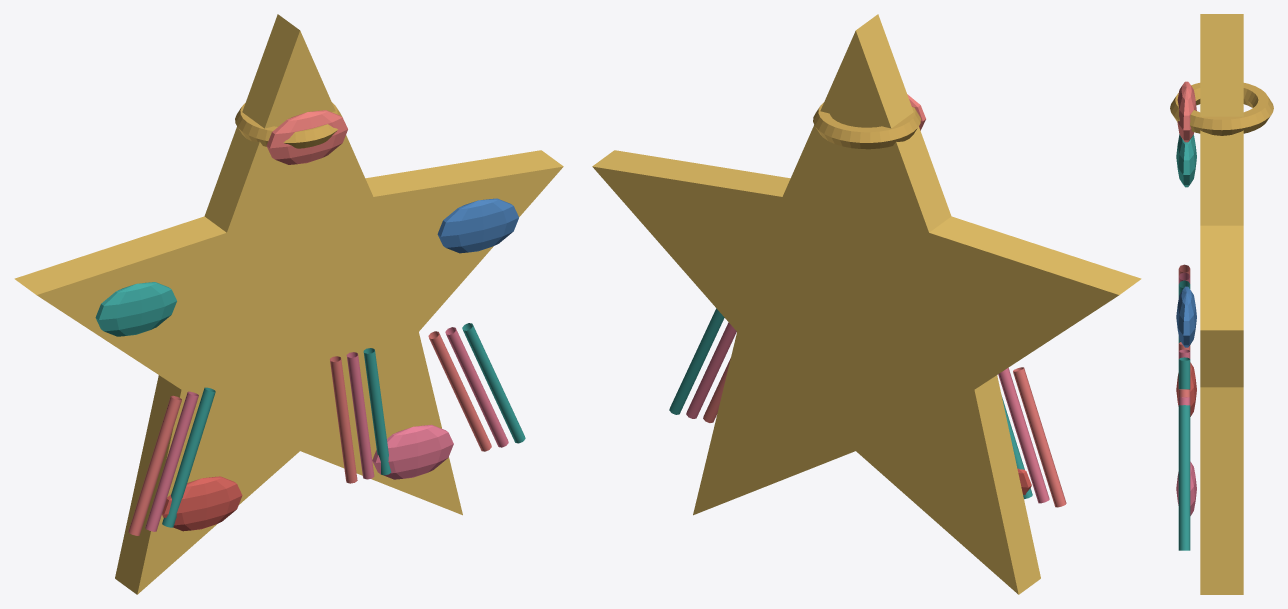
The model's file is mexico-star-pinata.glb.
The picture shows the model from 3 angles, left to right: view 1: azimuth 30°, elevation 25°; view 2: azimuth 150°, elevation 25°; view 3: azimuth 270°, elevation 25°; orthographic projection. The views are drawn at different scales.
Visible parts, largest first — view 1: ほし, ほしの いろおび.001, ほしの いろおび.004, ほしの いろおび.003, ほしの いろおび.002, ほしの いろおび, いろがみの ふさ.006, いろがみの ふさ.007, いろがみの ふさ.008, つりひも, いろがみの ふさ.001, いろがみの ふさ (+4 smaller); view 2: ほし, つりひも, いろがみの ふさ.006, いろがみの ふさ.007, いろがみの ふさ.002, いろがみの ふさ.001; view 3: ほし, つりひも, いろがみの ふさ.002, ほしの いろおび.004, ほしの いろおび.001, ほしの いろおび, いろがみの ふさ.005, ほしの いろおび.002, ほしの いろおび.003.
Part boxes in pixels (x1,y1,x2,y2): ほし: [14, 14, 563, 594]; ほしの いろおび.001: [95, 282, 176, 336]; ほしの いろおび.004: [437, 198, 518, 253]; ほしの いろおび.003: [372, 424, 453, 479]; ほしの いろおび.002: [162, 476, 242, 531]; ほしの いろおび: [266, 110, 347, 164]; いろがみの ふさ.006: [128, 395, 181, 535]; いろがみの ふさ.007: [145, 391, 198, 531]; いろがみの ふさ.008: [162, 387, 215, 527]; つりひも: [235, 102, 342, 148]; いろがみの ふさ.001: [445, 327, 508, 447]; いろがみの ふさ: [428, 331, 491, 451]; ほし: [592, 14, 1141, 594]; つりひも: [813, 102, 920, 149]; いろがみの ふさ.006: [1013, 367, 1066, 507]; いろがみの ふさ.007: [998, 367, 1049, 503]; いろがみの ふさ.002: [669, 308, 724, 414]; いろがみの ふさ.001: [686, 322, 736, 418]; ほし: [1200, 14, 1243, 594]; つりひも: [1170, 83, 1273, 135]; いろがみの ふさ.002: [1178, 405, 1190, 550]; ほしの いろおび.004: [1176, 286, 1196, 347]; ほしの いろおび.001: [1176, 134, 1196, 187]; ほしの いろおび: [1177, 81, 1196, 142]; いろがみの ふさ.005: [1178, 357, 1190, 389]; ほしの いろおび.002: [1176, 362, 1196, 416]; ほしの いろおび.003: [1176, 461, 1196, 515].
Size of the model in its own units: 1.41 by 1.34 by 0.25.
